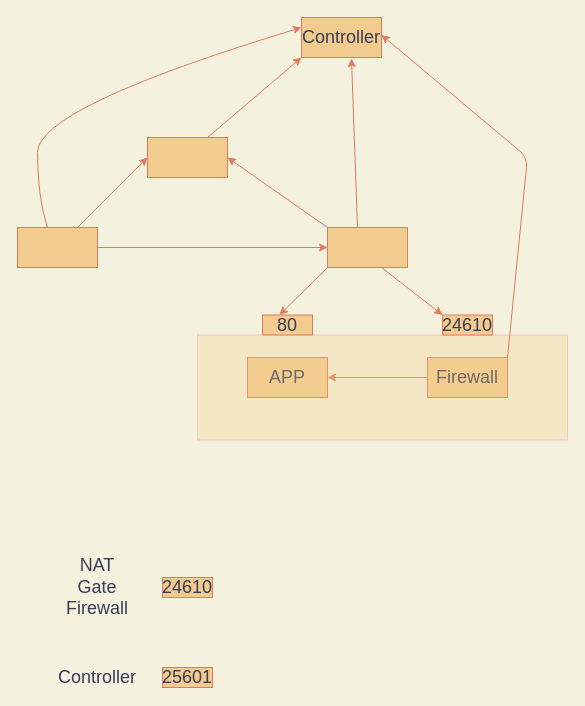
Image size: 585x706. Some labels were removed from this diagram. The shapes that lost their labels are listed below. From the top down, each one's centre as x and y in pixels, then its label:
point 187,157: NAT
point 57,247: Client
point 367,247: Gate
point 382,387: 同一设备
